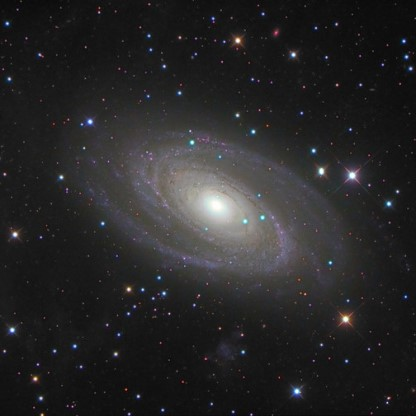Messier 81: (67, 118, 369, 307)
